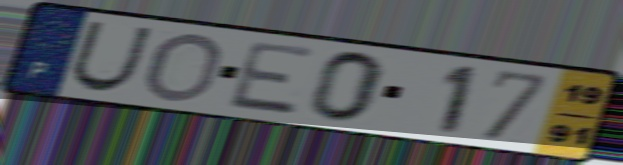0: (303, 50, 395, 124)
1: (435, 63, 482, 137)
7: (486, 67, 554, 144)
E: (224, 39, 321, 118)
O: (140, 30, 227, 104)
U: (66, 18, 157, 94)
